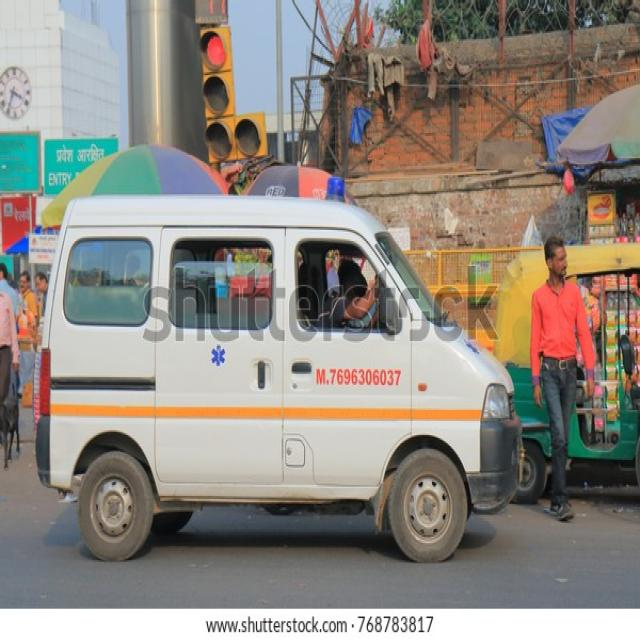ambulance: (38, 193, 520, 558)
